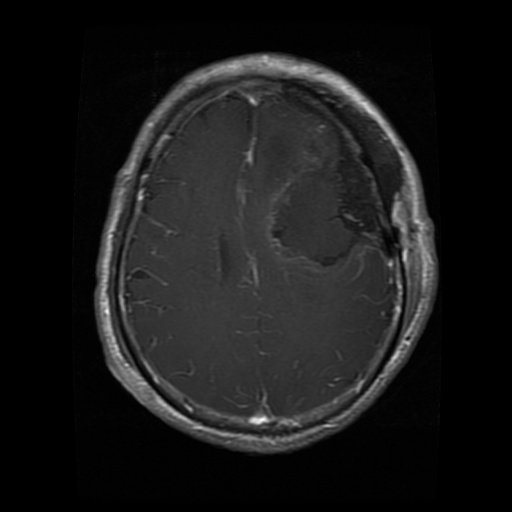glioma: (267, 156, 380, 267)
